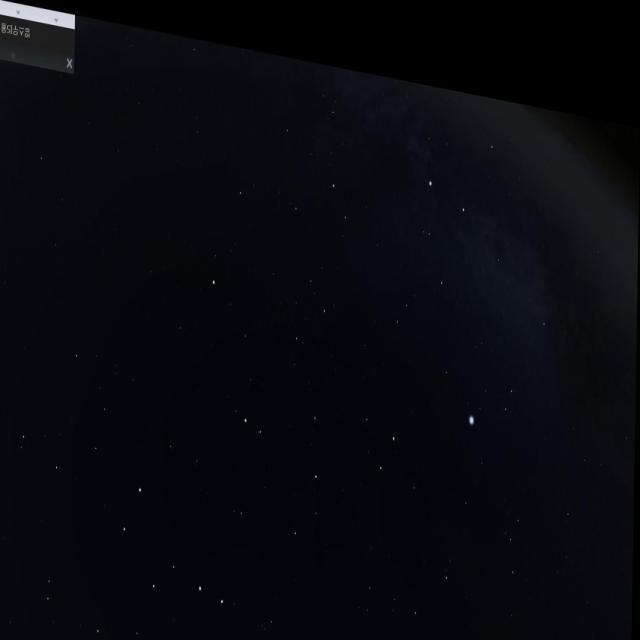cygnus: (415, 103, 563, 318)
lyra: (470, 345, 519, 408)
ursa_major: (117, 470, 261, 640)
